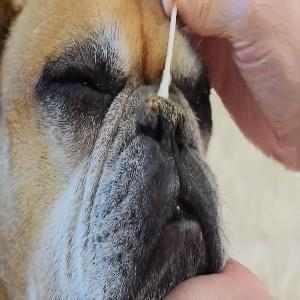keratosis: (134, 94, 190, 143)
